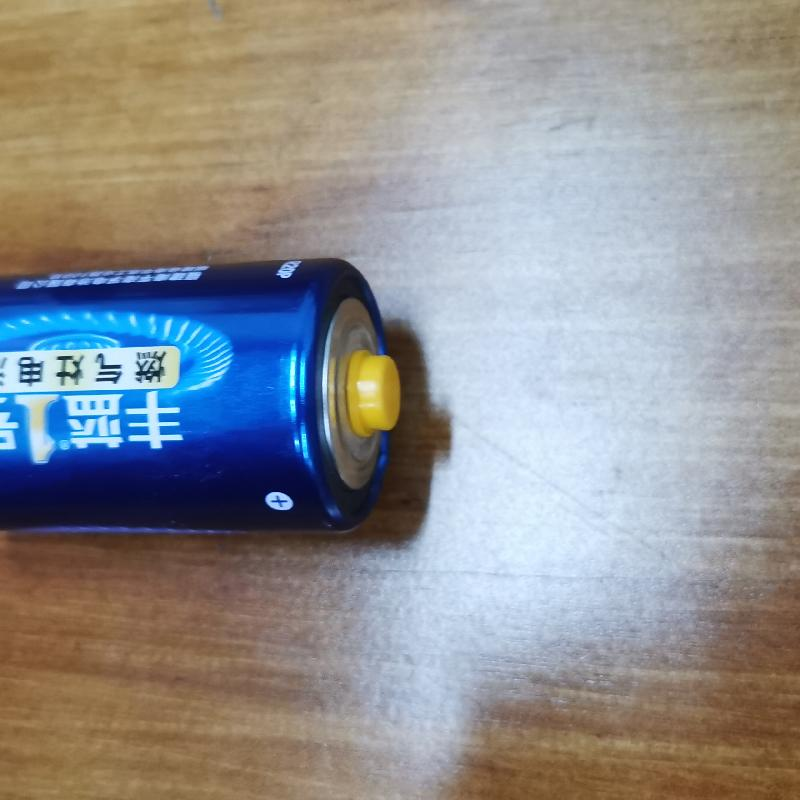battery: (5, 254, 408, 542)
